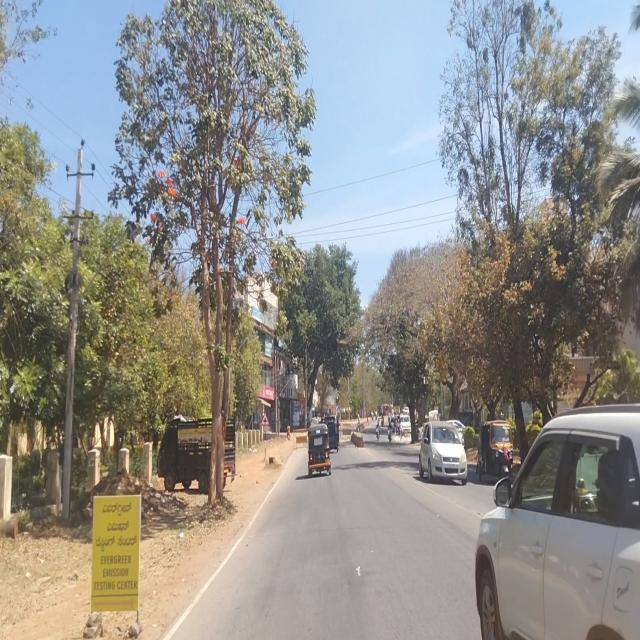bien_cam: (260, 411, 270, 425)
